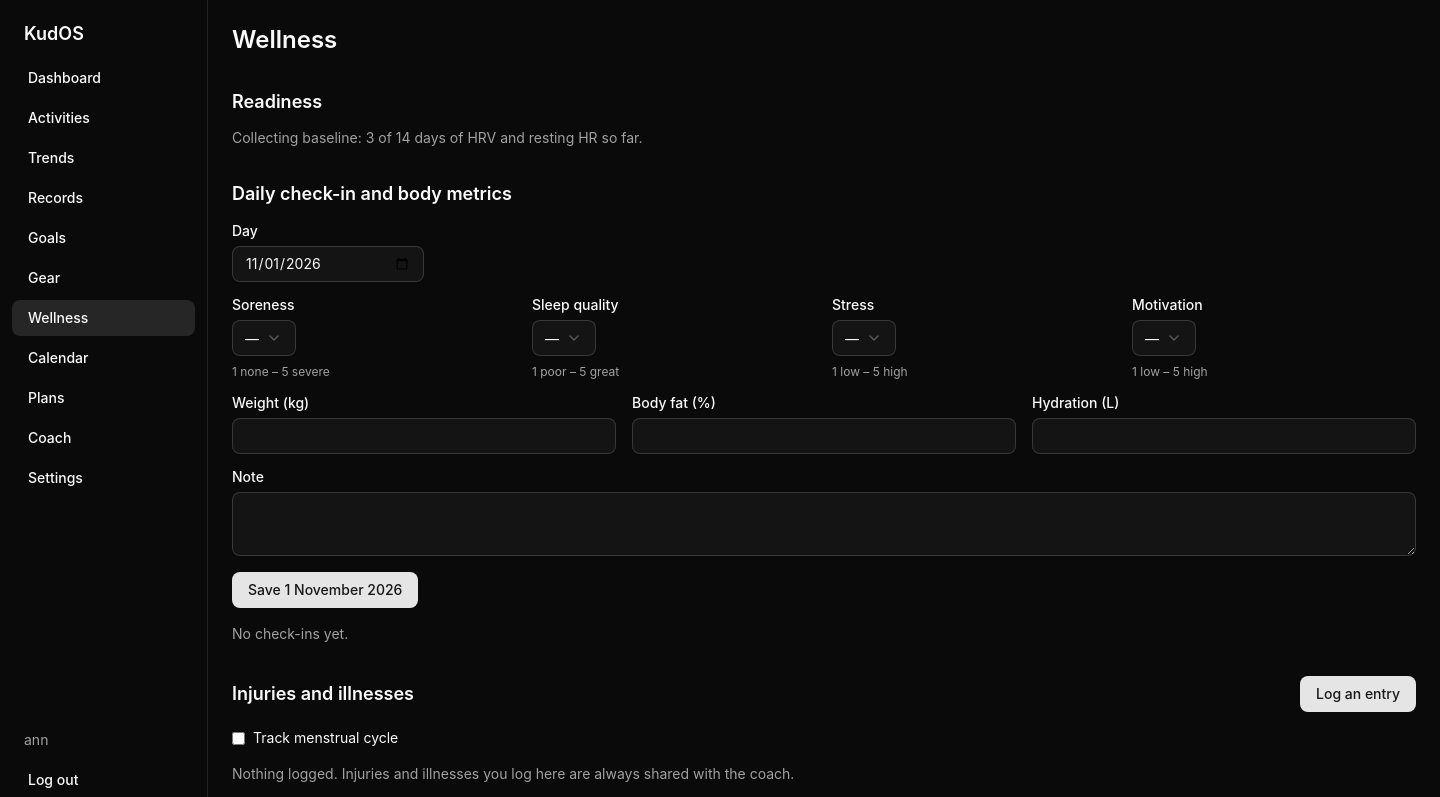
Test: WellnessPage › saves today's check-in with the CSRF token
Select "3" in the dropdown labelled "Soreness". click: (264, 338)
box: [232,320,296,356]
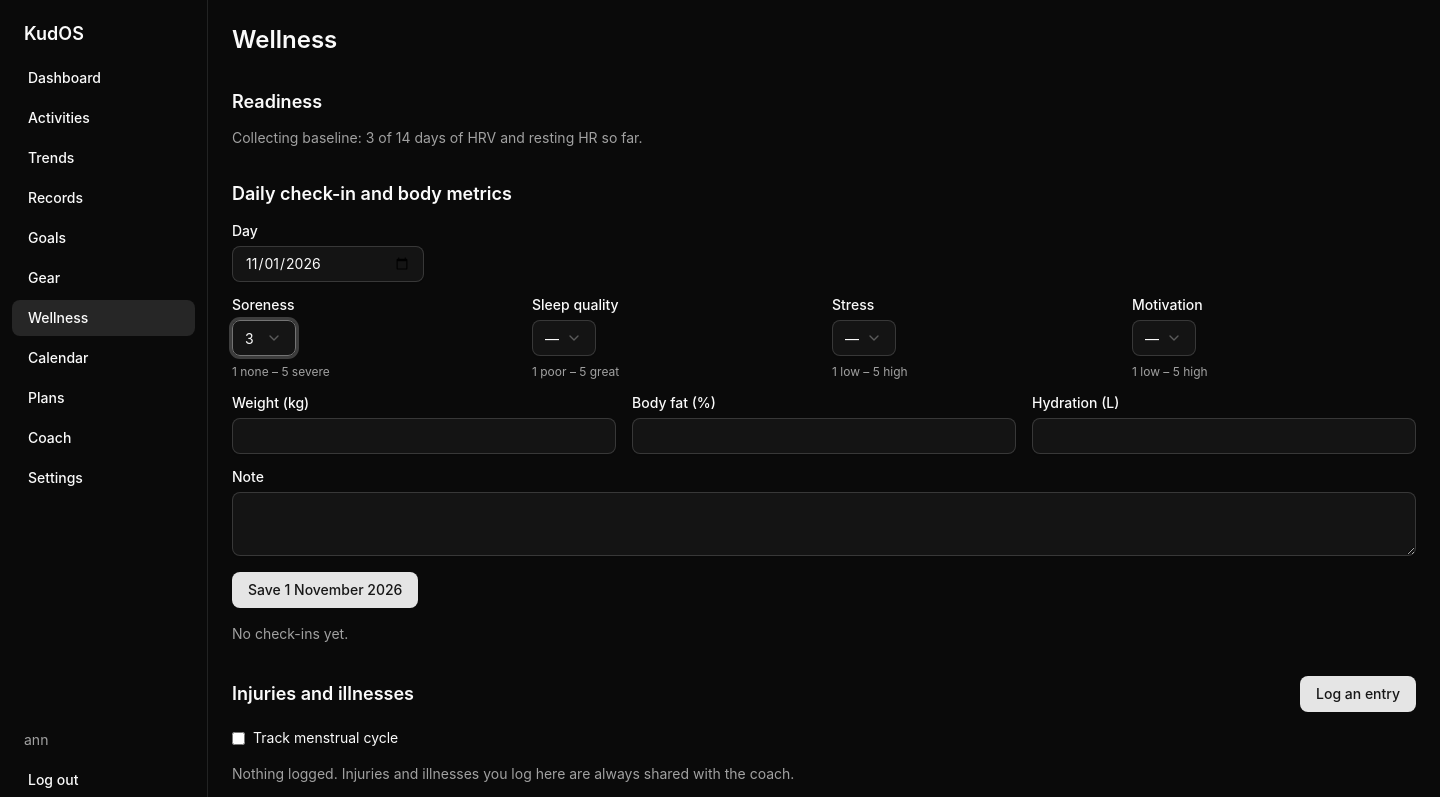
Select "4" in the dropdown labelled "Motivation". click: (1164, 338)
box: [1132,320,1196,356]
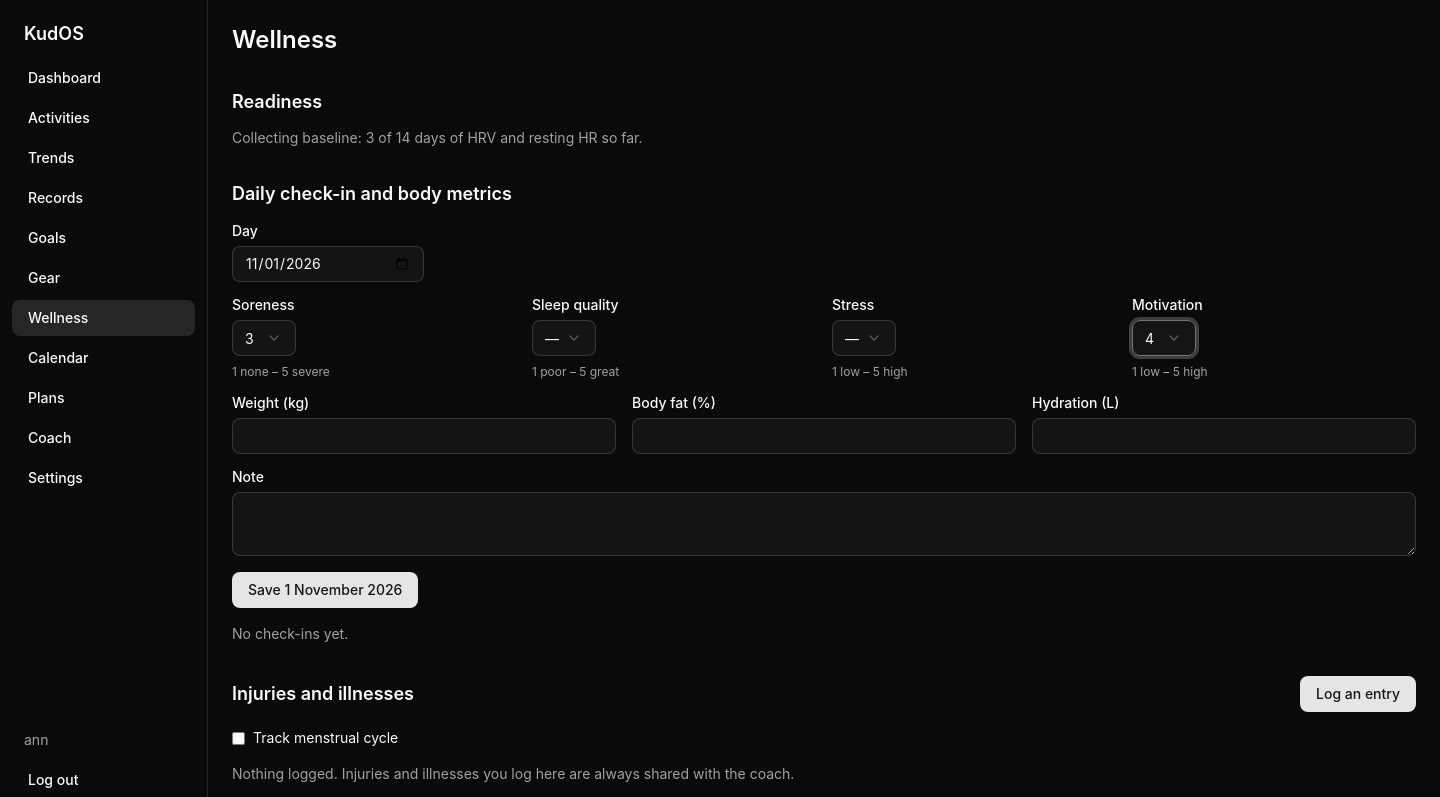
Type "70,5" into the field labelled "Weight (kg)". click: (424, 436)
box: [232,418,616,454]
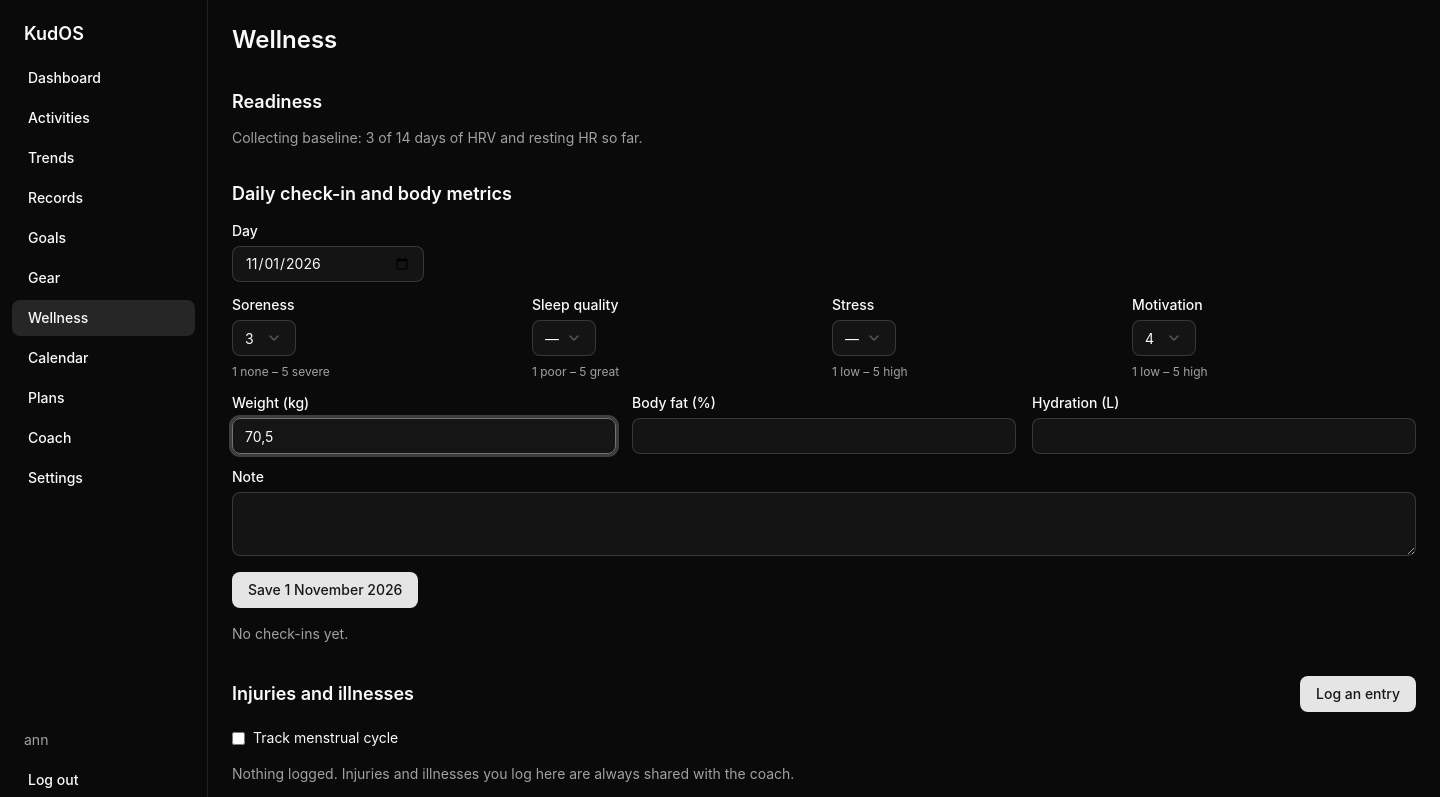
Type " Tired " into the text box labelled "Note". click: (824, 524)
box: [232,492,1416,556]
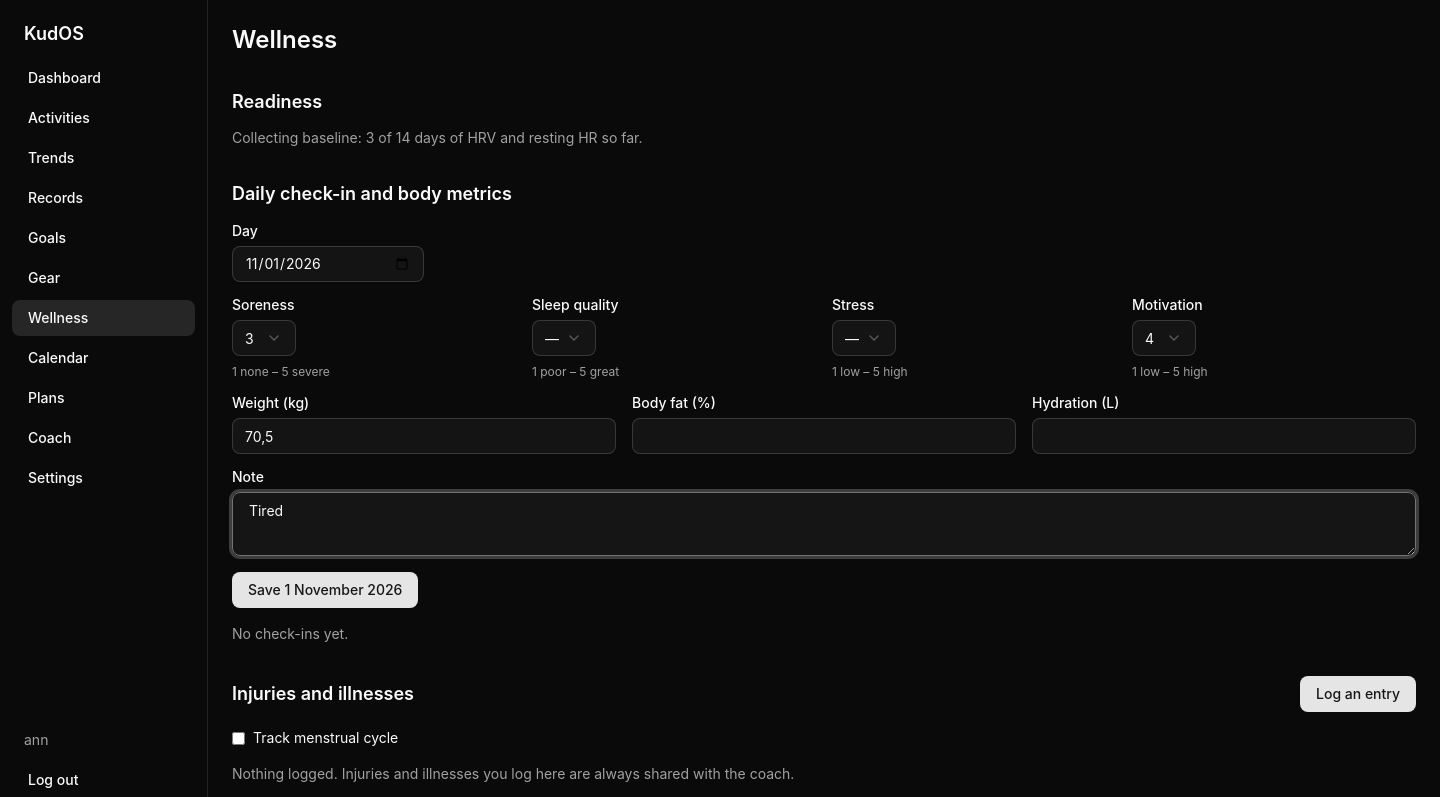
Click the button "Save 1 November 2026". click: (325, 590)
box: [232,572,418,608]
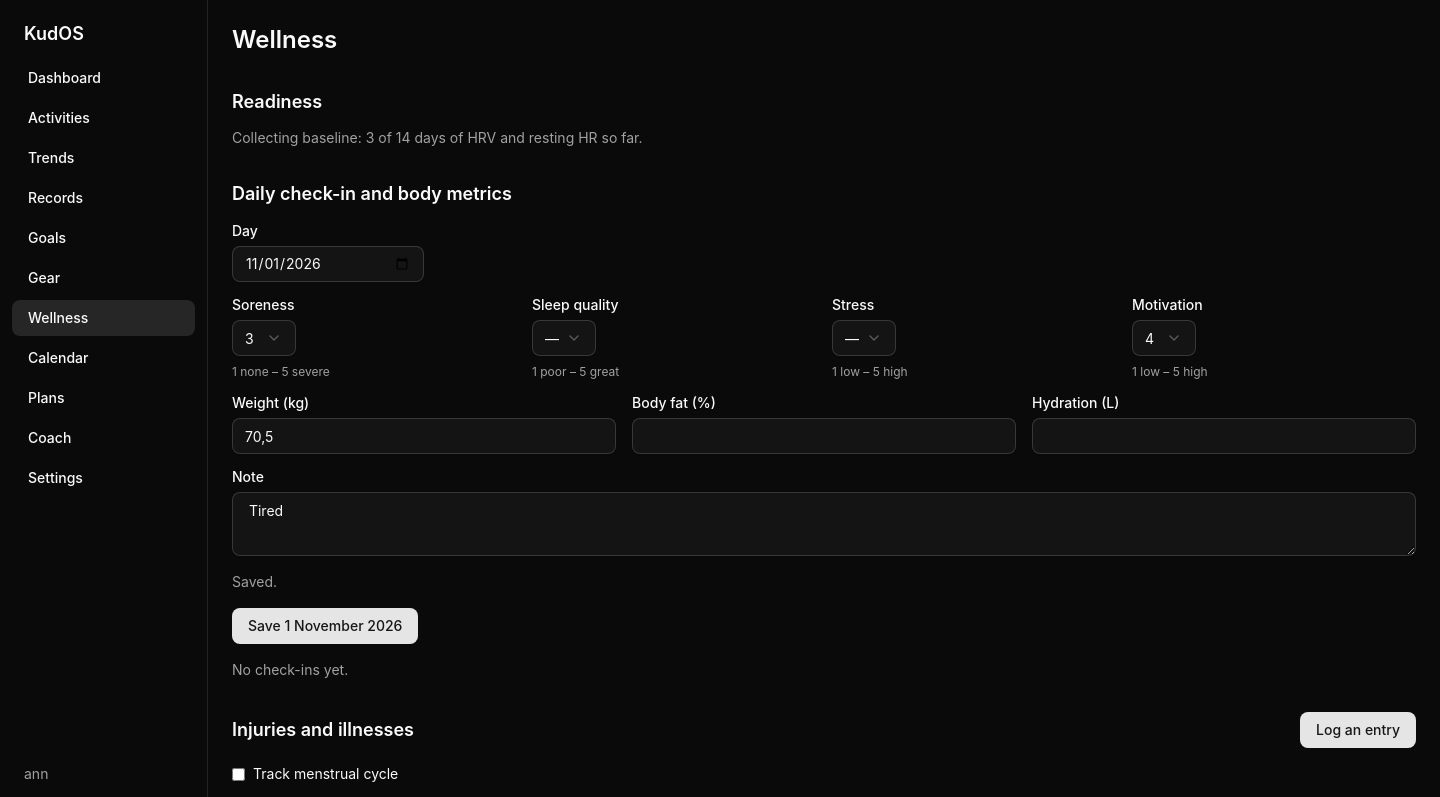
Now the text "Saved." is shown, box [232,573,277,590]
